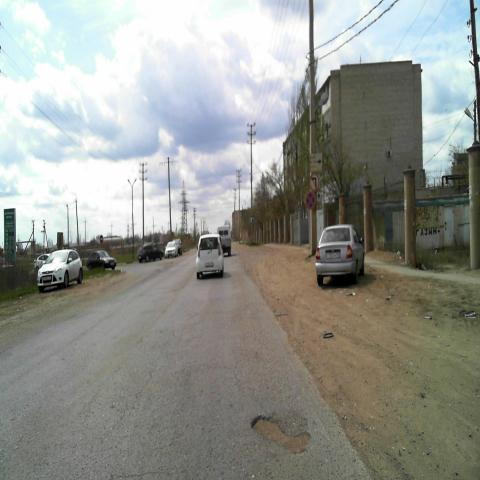3_18_2: (309, 174, 318, 190)
8_2_2: (316, 190, 322, 210)
